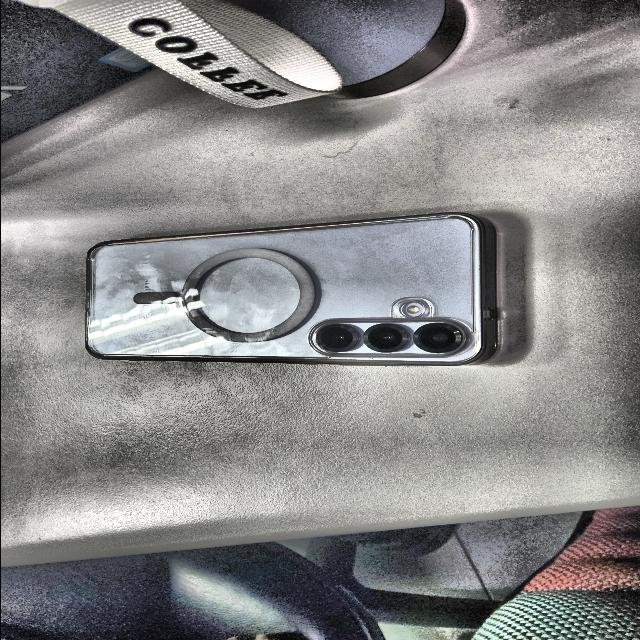PHONE: (84, 213, 495, 366)
